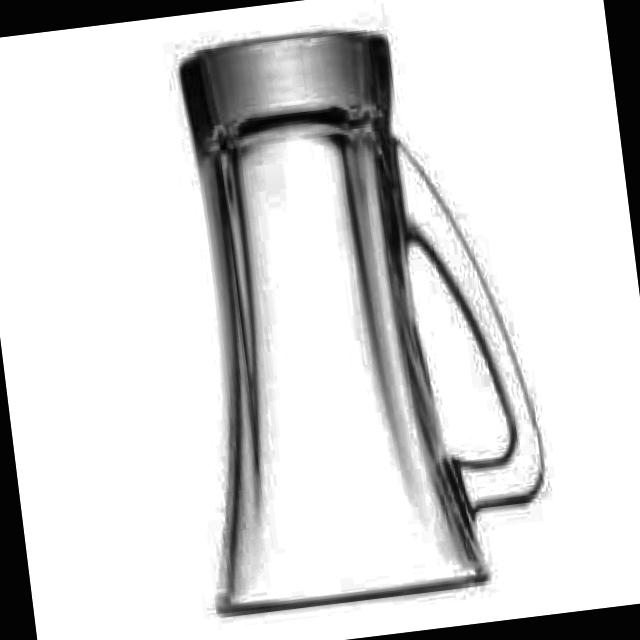Mug: (148, 14, 560, 621)
